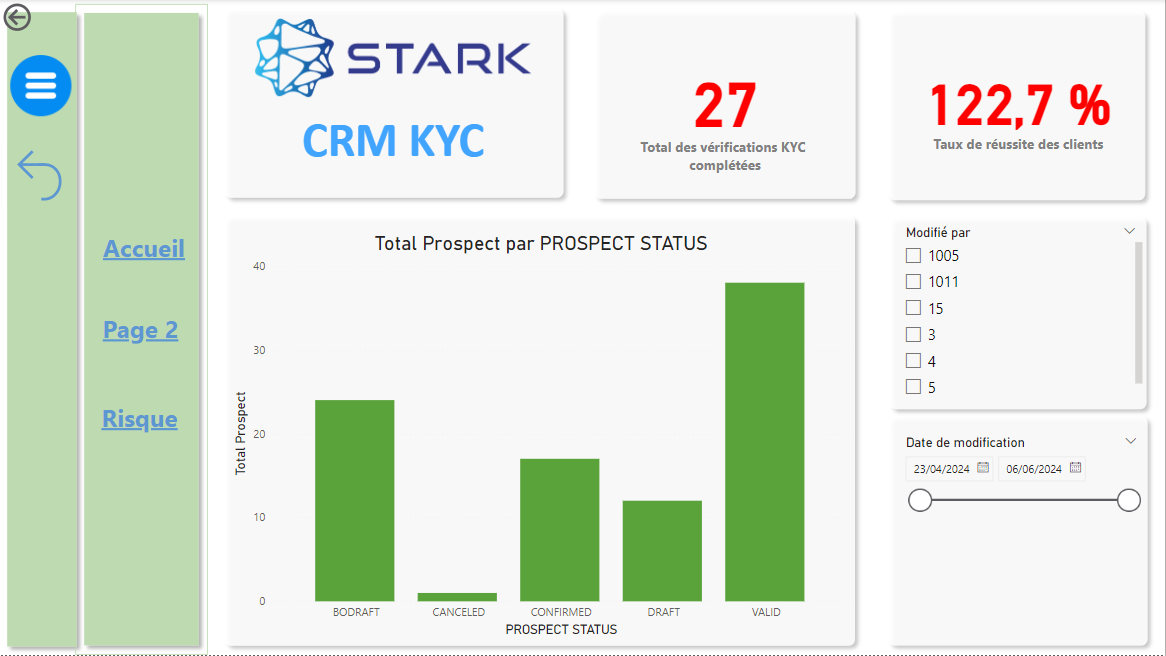

This screenshot's page, from the dashboard's own definition file:
{"tool":"powerbi","page":{"name":"Page 1","canvas":[1280,720],"ordinal":0},"visuals":[{"type":"shape","box":[83.9,5.7,145.7,714.3],"z":0,"group":"g1"},{"type":"shape","box":[0,5.7,94.3,714.3],"z":0},{"type":"actionButton","box":[12.9,52.9,67.1,82.9],"z":1000},{"type":"actionButton","box":[90,220,140,104.3],"z":1000,"group":"g1"},{"type":"shape","box":[239.4,1.4,390,225.7],"z":2000},{"type":"actionButton","box":[90.7,308.4,129.7,103.2],"z":2000,"group":"g1"},{"type":"actionButton","box":[10,157.1,70,71.4],"z":3000},{"type":"actionButton","box":[85.6,406.6,138.5,104.5],"z":3000,"group":"g1"},{"type":"shape","box":[967.9,4.3,300,225.7],"z":4000},{"type":"shape","box":[239.2,229.1,710,489.7],"z":5000},{"type":"textbox","box":[248,117.2,368.6,75.7],"z":6000},{"type":"image","box":[249.4,15.7,367.1,98.6],"z":7000},{"type":"shape","box":[645.1,4.3,304.3,224.3],"z":8000},{"type":"card","fields":{"Values":["fact Fact.Total des vérifications KYC complétées"]},"box":[657.3,15.1,279.9,204.5],"z":9000},{"type":"card","fields":{"Values":["fact Fact.Taux de réussite des clients"]},"box":[976.9,15.1,284.5,205.2],"z":10000},{"type":"actionButton","box":[0,0,100,40],"z":11000},{"type":"columnChart","fields":{"Category":["dim organisation.ORG_PROSPECT_STATUS"],"Y":["fact Fact.TotalProspect"]},"box":[252.5,255,685,450],"z":12000},{"type":"shape","box":[968.8,230,300,228.8],"z":13000},{"type":"slicer","fields":{"Values":["dim organisation.LAST_MODIFIED_BY"]},"box":[982.5,242.5,277.5,206.2],"z":14000},{"type":"shape","box":[967.5,448.8,302.5,270],"z":15000},{"type":"group","id":"g1","title":"Groupe 1","box":[83.9,5.7,146.1,714.3],"z":16000},{"type":"slicer","fields":{"Values":["dim organisation.LAST_MODIFIED_DATE"]},"box":[982.5,473.8,278.8,231.2],"z":17000}]}

Visuals, with their boxes on the page's 1280x720 design canvas (x1, y1, x2, y2). These are canvas units, not pixel positions in the 1166x656 screenshot, which may show the page scaled, cropped or inside an application window:
shape: <box>84,6,230,720</box>
shape: <box>0,6,94,720</box>
actionButton: <box>13,53,80,136</box>
actionButton: <box>90,220,230,324</box>
shape: <box>239,1,629,227</box>
actionButton: <box>91,308,220,412</box>
actionButton: <box>10,157,80,228</box>
actionButton: <box>86,407,224,511</box>
shape: <box>968,4,1268,230</box>
shape: <box>239,229,949,719</box>
textbox: <box>248,117,617,193</box>
image: <box>249,16,616,114</box>
shape: <box>645,4,949,229</box>
card - fact Fact.Total des vérifications KYC complétées: <box>657,15,937,220</box>
card - fact Fact.Taux de réussite des clients: <box>977,15,1261,220</box>
actionButton: <box>0,0,100,40</box>
columnChart - dim organisation.ORG_PROSPECT_STATUS x fact Fact.TotalProspect: <box>252,255,938,705</box>
shape: <box>969,230,1269,459</box>
slicer - dim organisation.LAST_MODIFIED_BY: <box>982,242,1260,449</box>
shape: <box>968,449,1270,719</box>
"Groupe 1" group: <box>84,6,230,720</box>
slicer - dim organisation.LAST_MODIFIED_DATE: <box>982,474,1261,705</box>
